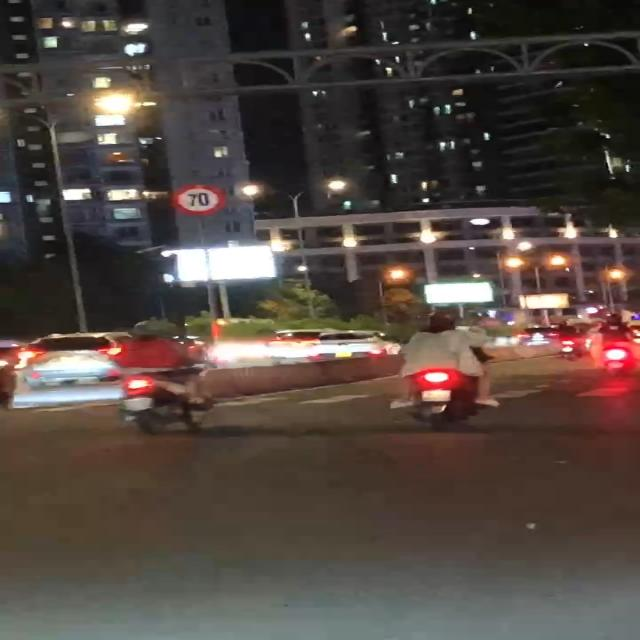Bien bao toc do toi da cho phep: (168, 185, 229, 217)
